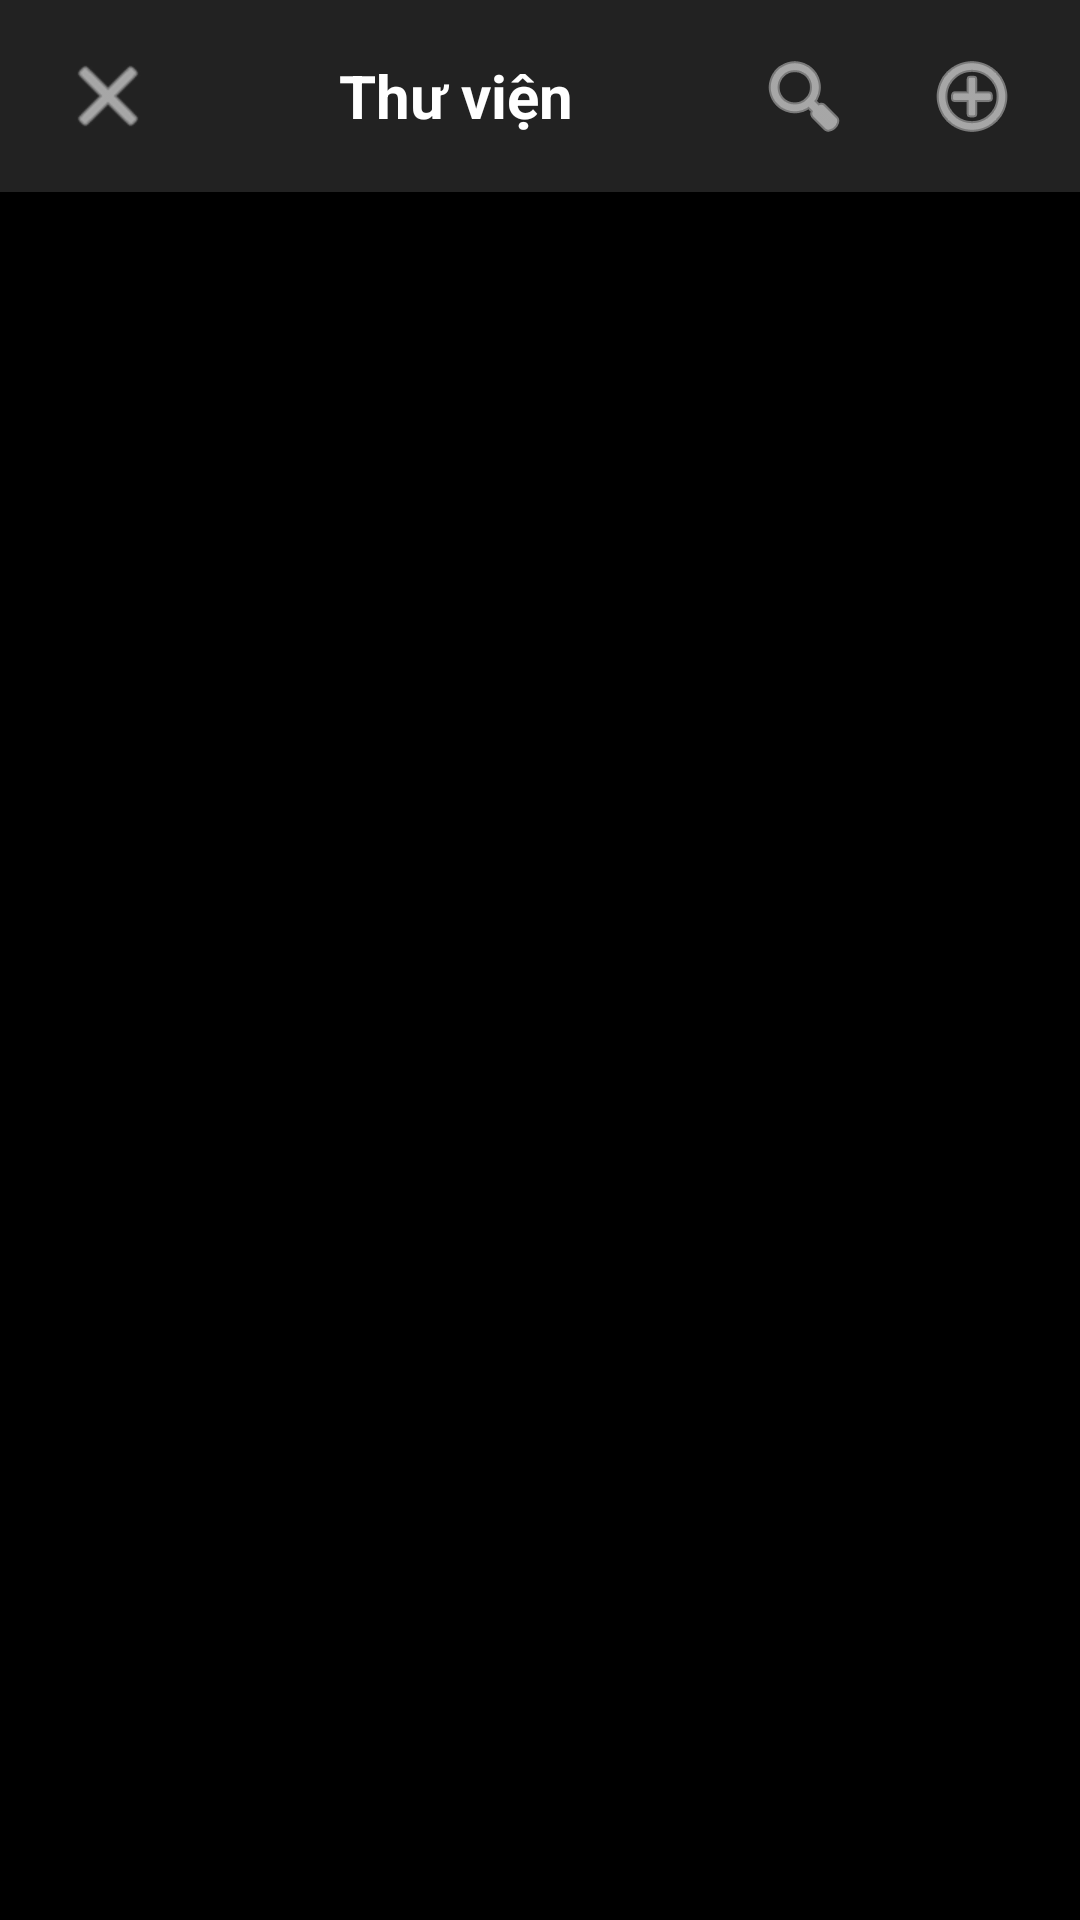

Icon click points for this 1080 x 1920 phone screenshot, format point (x, y):
Thêm ảnh: point (972, 96)
Tìm kiếm: point (803, 96)
